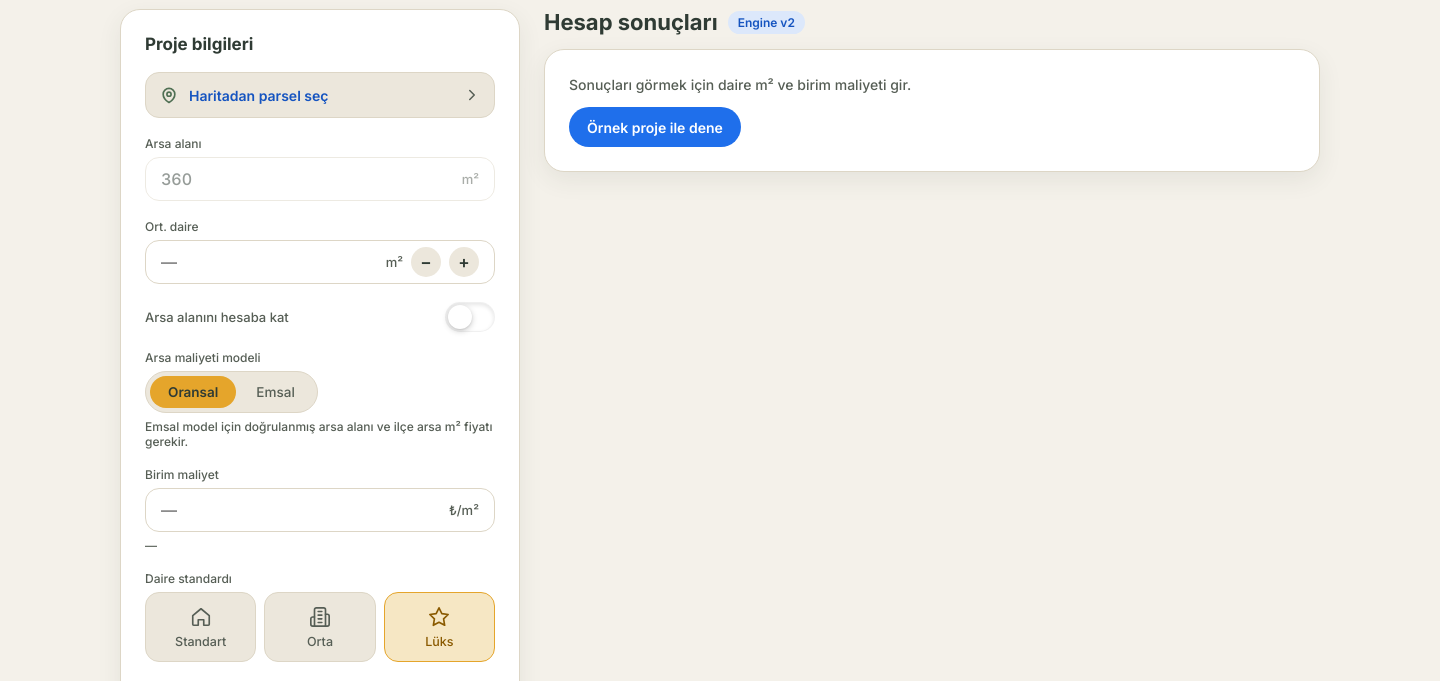
Scenario: /hesapla — masaüstü "Arsa Fiyatı" stat kartı "Min." niteleyicisiyle etiketlenir (denetim bulgusu C5) › FA piyasa degeri degil, hesaplanan minimum fiyata dayali oldugu icin "Min." on eki tasir
The width and height of the screenshot is (1440, 681).
Click the button "Örnek proje ile dene".
click(655, 127)  # box top-left (569, 107), bottom-right (741, 147)
(page scrolled)
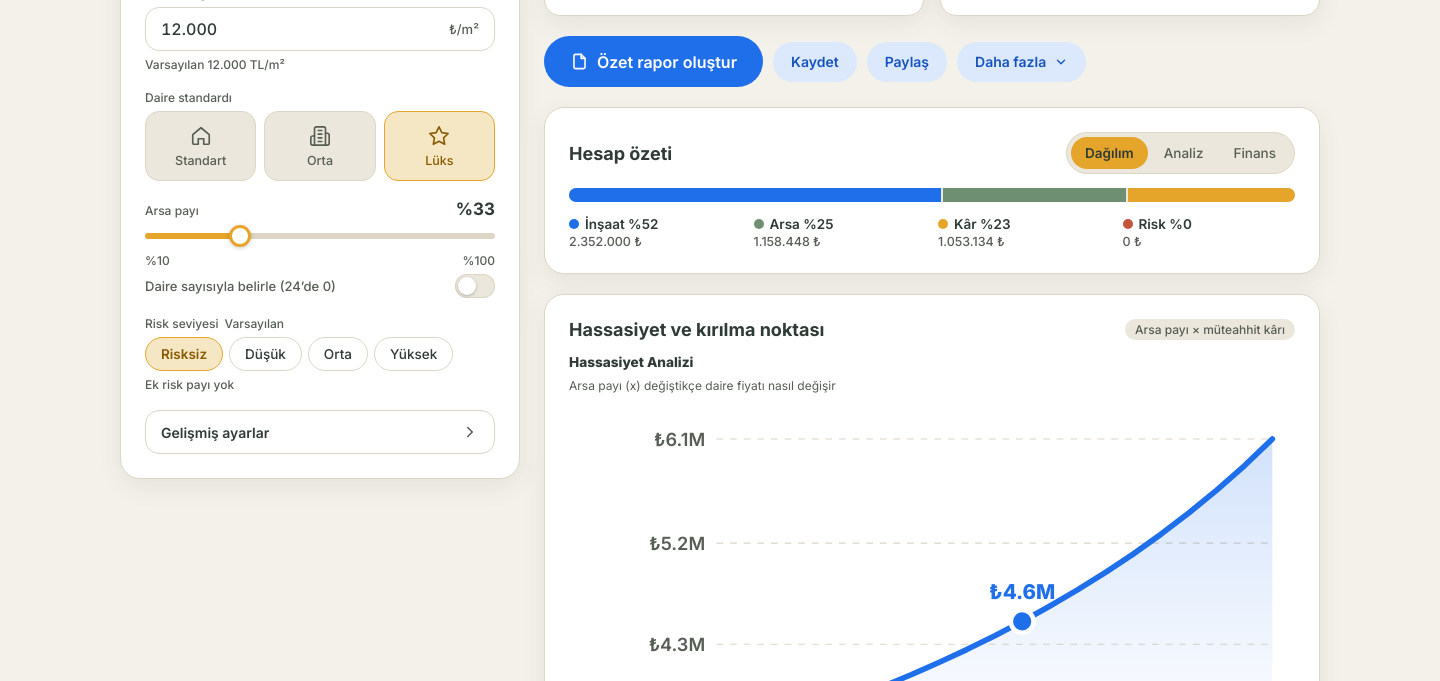
Click the switch named "Toplam daire sayısı üzerinden hesapla".
click(475, 286)  # box top-left (455, 274), bottom-right (495, 298)
(page scrolled)
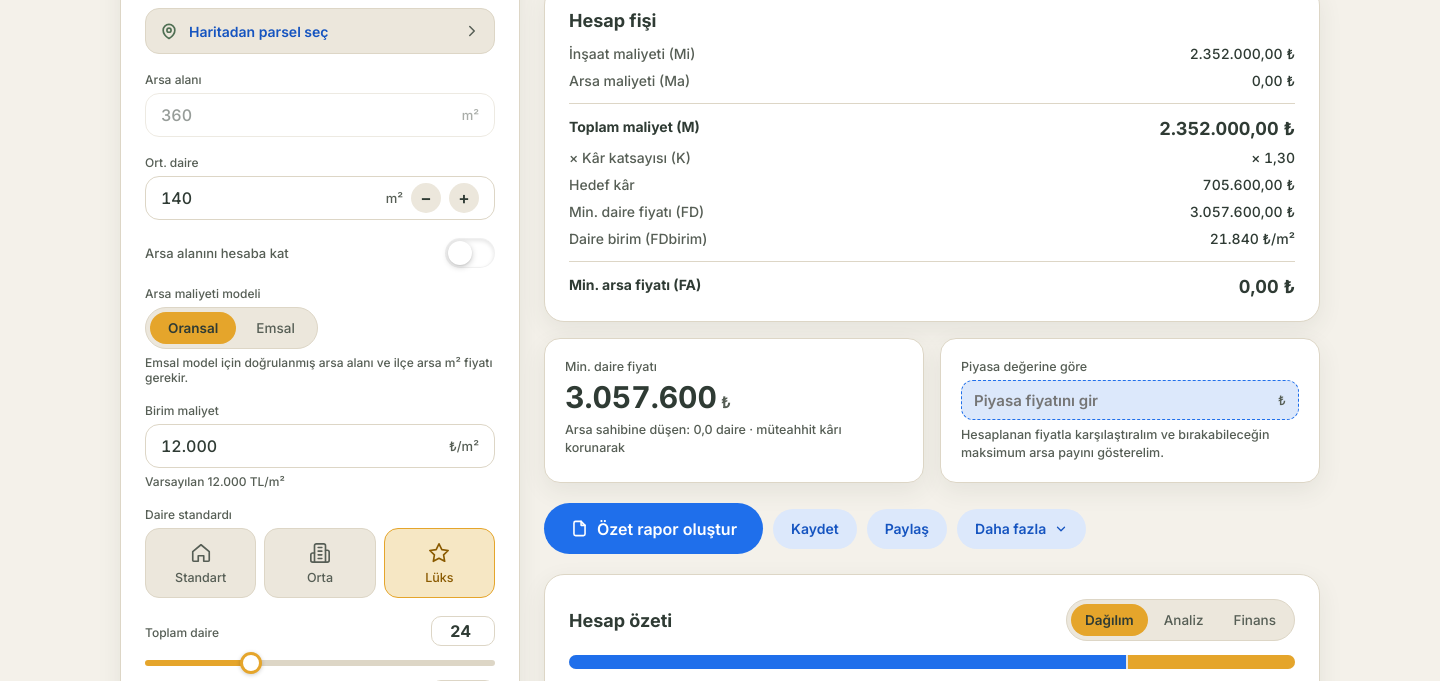
Now the text "Min. arsa fiyatı (FA)" is shown, box top-left (569, 276), bottom-right (701, 297)
